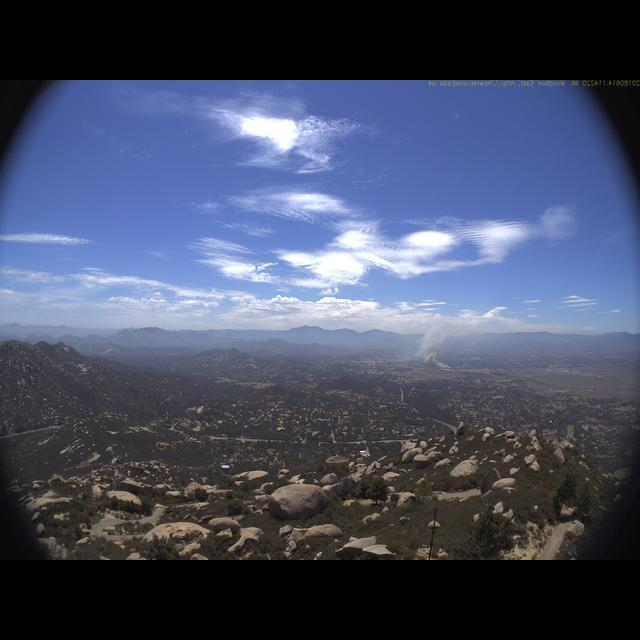Smoke: (408, 315, 459, 376)
